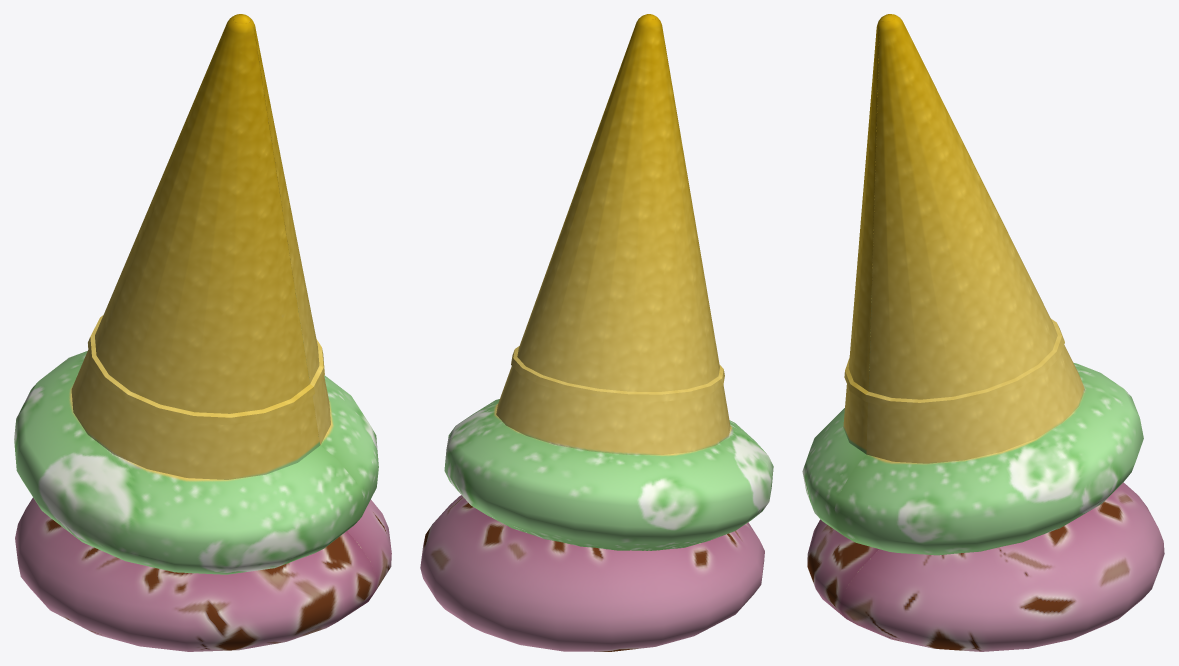
The model's file is IceCream001.fbx.
The picture shows the model from 3 angles, left to right: view 1: azimuth 30°, elevation 25°; view 2: azimuth 150°, elevation 25°; view 3: azimuth 270°, elevation 25°; orthographic projection. The views are drawn at different scales.
Visible parts, largest first — view 1: IceCream001; view 2: IceCream001; view 3: IceCream001.
Boxes of the visible parts, box(x1,y1,x2,y2) form: IceCream001: box(14, 14, 391, 651); IceCream001: box(420, 14, 773, 651); IceCream001: box(802, 14, 1164, 651).
Size of the model in its own units: 22.06 by 39.49 by 21.99.
